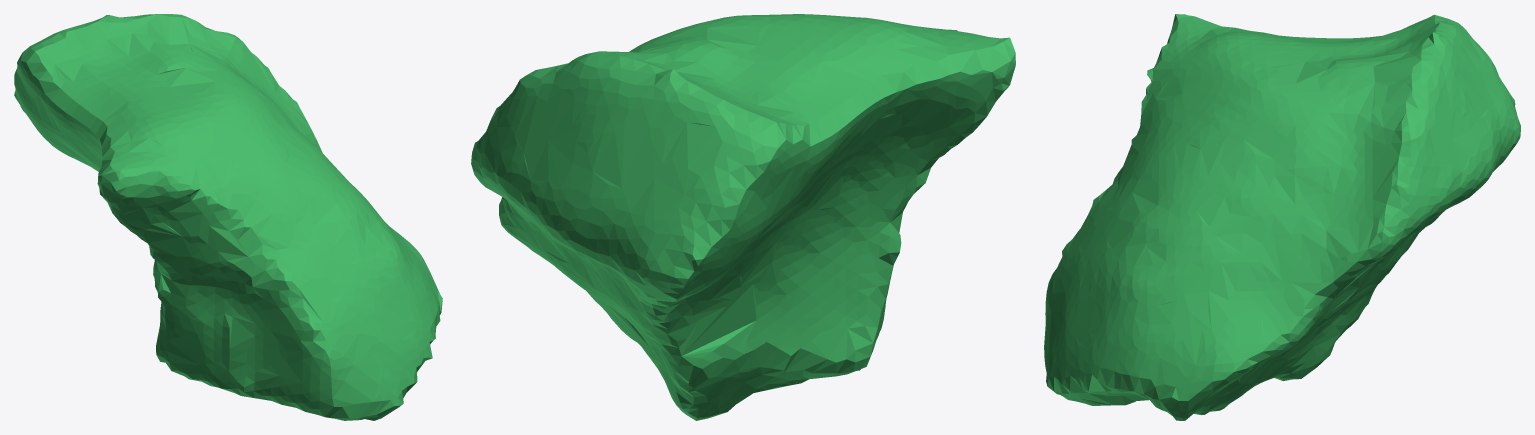
The model's file is Model_93_RH__Gustatory_cortex_(Gu).obj.
3 views of the same model, side by side, from view 1: azimuth 30°, elevation 25°; view 2: azimuth 150°, elevation 25°; view 3: azimuth 270°, elevation 25° (orthographic). The views are drawn at different scales.
Size of the model in its own units: 3.1 by 2.65 by 3.58.
